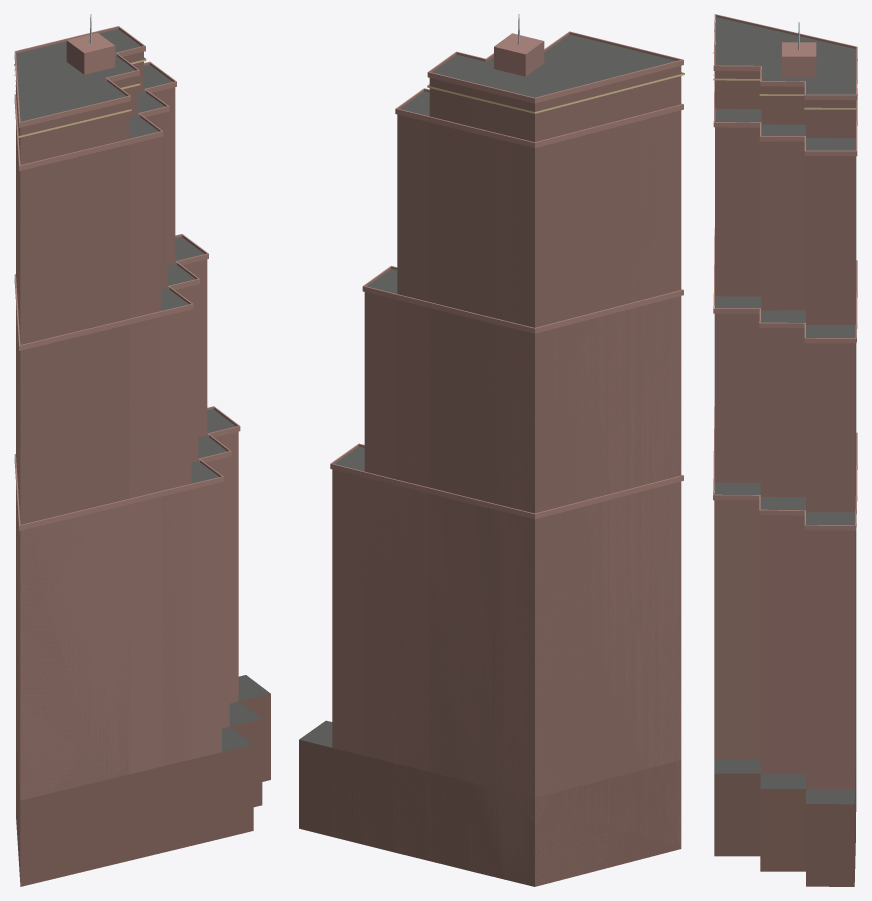
Rendered from georgia-pacific-tower.glb.
The picture shows the model from 3 angles, left to right: view 1: azimuth 30°, elevation 25°; view 2: azimuth 150°, elevation 25°; view 3: azimuth 270°, elevation 25°; orthographic projection. The views are drawn at different scales.
Visible parts, largest first — view 1: lod0_bld_wall, lod0_lm_stone, lod0_bld_roof, lod1_lm_stone; view 2: lod0_bld_wall, lod0_lm_stone, lod0_bld_roof, lod1_lm_stone; view 3: lod0_bld_wall, lod1_lm_stone, lod0_bld_roof, lod0_lm_stone, lod0_lm_glow.
Part boxes in pixels (<box>): lod0_bld_wall: <box>16,51,270,886</box>; lod0_lm_stone: <box>14,26,240,530</box>; lod0_bld_roof: <box>16,29,266,747</box>; lod1_lm_stone: <box>66,30,270,769</box>; lod0_bld_wall: <box>299,66,681,886</box>; lod0_lm_stone: <box>330,31,683,519</box>; lod0_bld_roof: <box>299,34,676,747</box>; lod1_lm_stone: <box>335,14,544,471</box>; lod0_bld_wall: <box>714,70,856,886</box>; lod1_lm_stone: <box>714,22,855,804</box>; lod0_bld_roof: <box>714,17,856,801</box>; lod0_lm_stone: <box>713,14,857,530</box>; lod0_lm_glow: <box>713,30,857,109</box>.
Size of the model in its own units: 87.45 by 226 by 38.1.
